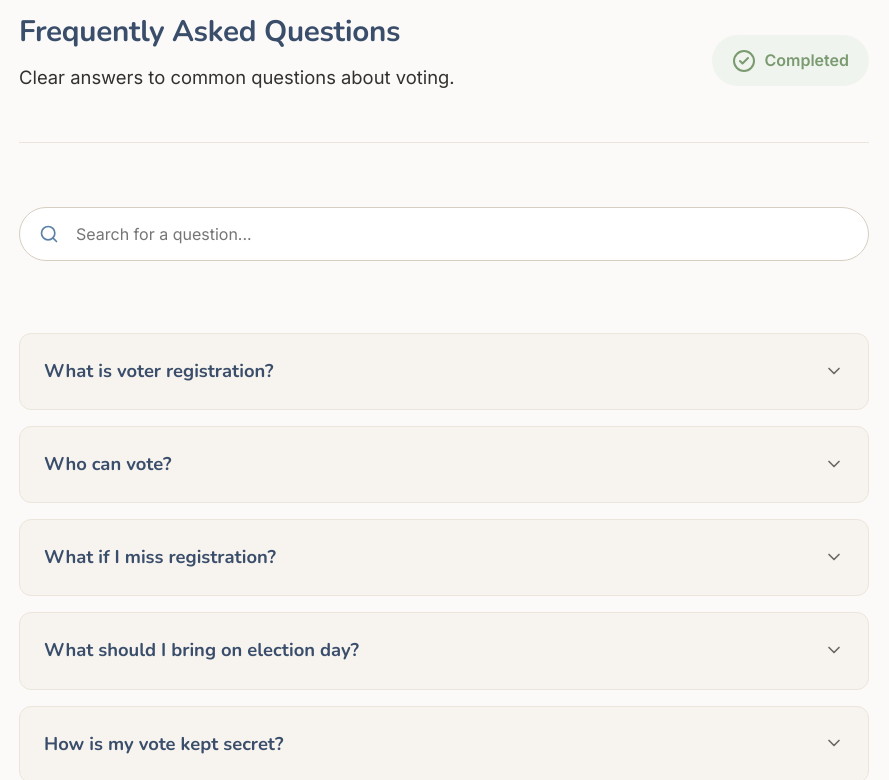
it: core sections › lets the user search and expand the FAQ
Step 1. Type "registration" into the field named "search frequently asked questions" → {"x": 444, "y": 234}, box left=19, top=207, right=869, bottom=261
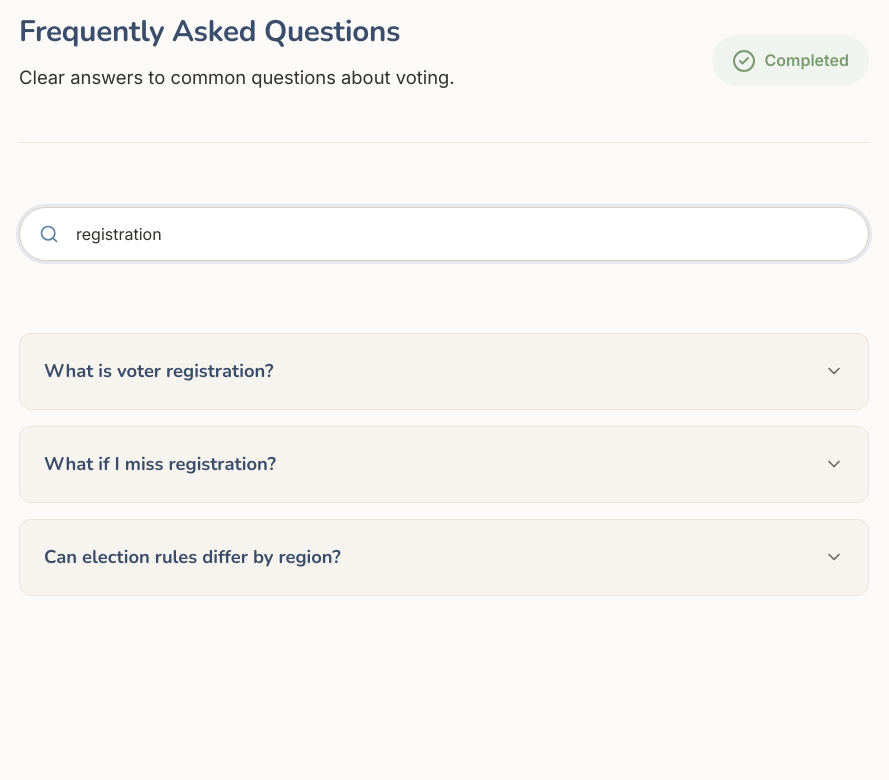
Expected: the heading "What is voter registration?" is shown, left=44, top=359, right=274, bottom=383
Step 2. Click the button "What is voter registration?" → {"x": 159, "y": 370}, box left=44, top=359, right=844, bottom=383
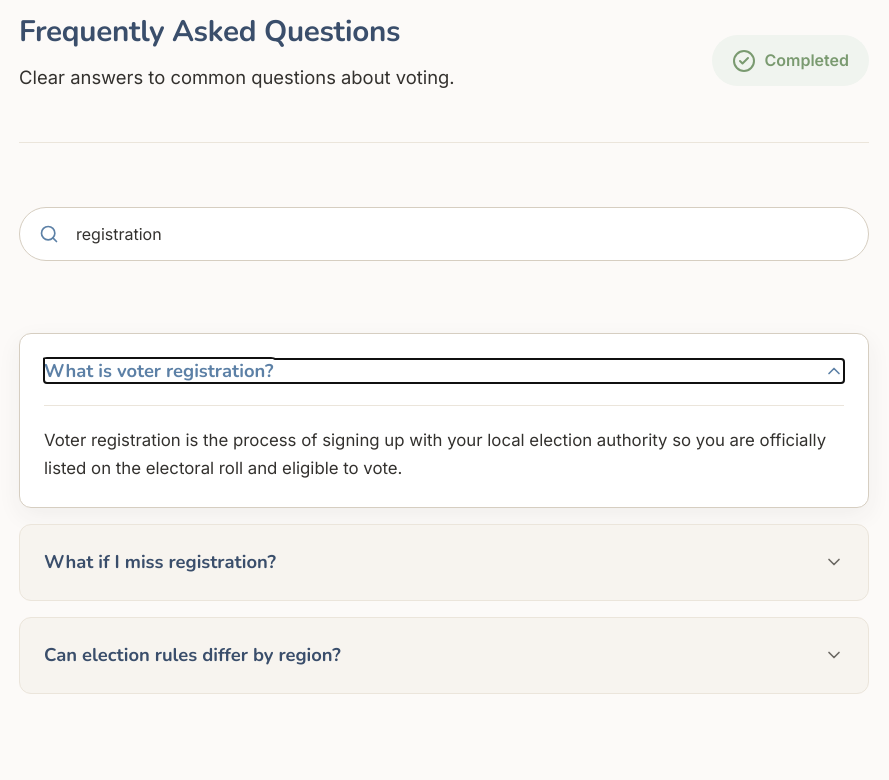
Now the text "signing up with your local election authority" is shown, box left=44, top=430, right=826, bottom=478
